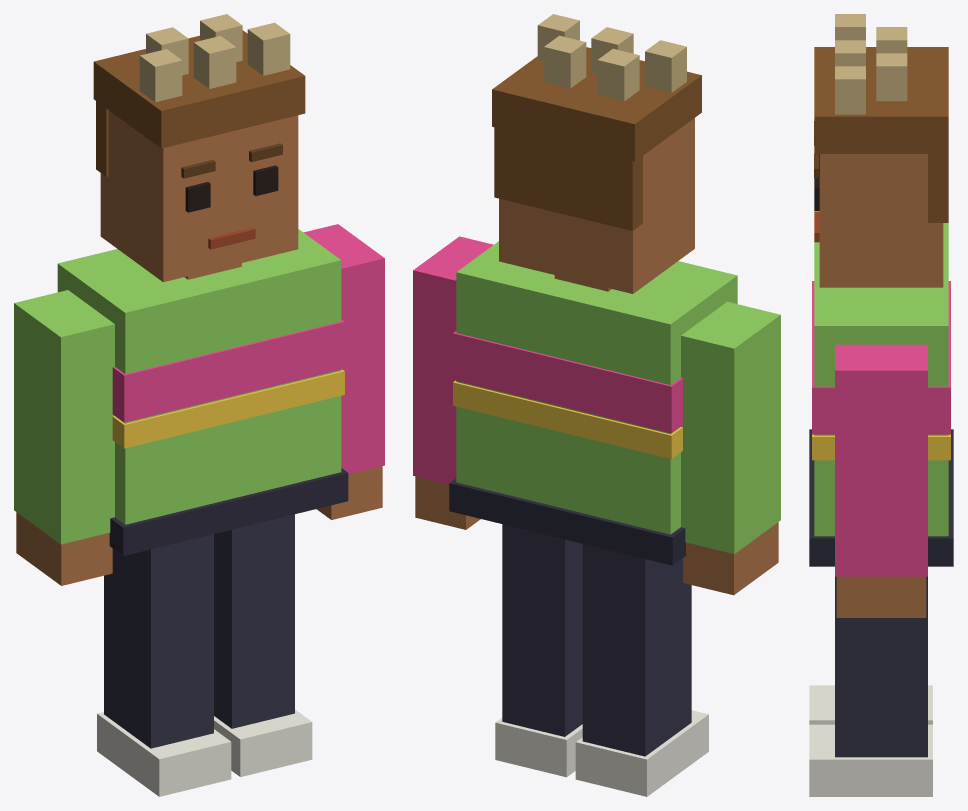
The model's file is middle_home_student_2.glb.
3 views of the same model, side by side, from view 1: azimuth 30°, elevation 25°; view 2: azimuth 150°, elevation 25°; view 3: azimuth 270°, elevation 25° (orthographic).
Visible parts, largest first — view 1: Box9, Box14, Box7, Box5, Box1, Box20, Box10, Box3, Box12, Box6, Box11, Box2 (+10 smaller); view 2: Box9, Box7, Box5, Box14, Box1, Box20, Box10, Box26, Box3, Box12, Box11, Box6 (+8 smaller); view 3: Box3, Box14, Box9, Box1, Box20, Box2, Box4, Box10, Box12, Box22, Box21, Box26 (+5 smaller).
Boxes of the visible parts, bbox=[...] form: Box9: bbox=[57, 229, 341, 524]; Box14: bbox=[100, 110, 298, 282]; Box7: bbox=[14, 290, 114, 544]; Box5: bbox=[104, 534, 213, 748]; Box1: bbox=[214, 514, 294, 728]; Box20: bbox=[93, 30, 305, 148]; Box10: bbox=[112, 319, 344, 422]; Box3: bbox=[303, 224, 384, 474]; Box12: bbox=[109, 468, 348, 555]; Box6: bbox=[97, 712, 231, 796]; Box11: bbox=[112, 369, 344, 448]; Box2: bbox=[214, 709, 312, 776]; Box9: bbox=[456, 241, 737, 534]; Box7: bbox=[681, 301, 780, 553]; Box5: bbox=[582, 544, 691, 756]; Box14: bbox=[499, 118, 694, 293]; Box1: bbox=[502, 524, 582, 736]; Box20: bbox=[492, 47, 701, 161]; Box10: bbox=[453, 331, 682, 433]; Box26: bbox=[494, 123, 642, 230]; Box3: bbox=[413, 236, 493, 484]; Box12: bbox=[449, 478, 685, 565]; Box11: bbox=[453, 380, 682, 458]; Box6: bbox=[575, 710, 708, 796]; Box3: bbox=[835, 344, 927, 576]; Box14: bbox=[819, 154, 943, 287]; Box9: bbox=[814, 223, 948, 536]; Box1: bbox=[835, 576, 927, 757]; Box20: bbox=[814, 47, 948, 153]; Box2: bbox=[809, 724, 932, 796]; Box4: bbox=[836, 576, 926, 617]; Box10: bbox=[812, 281, 950, 434]; Box12: bbox=[809, 429, 953, 566]; Box22: bbox=[876, 53, 907, 101]; Box21: bbox=[835, 66, 865, 114]; Box26: bbox=[928, 154, 948, 222].
Bounding box in the file's own units: 0.756 × 1.6 × 0.294.
